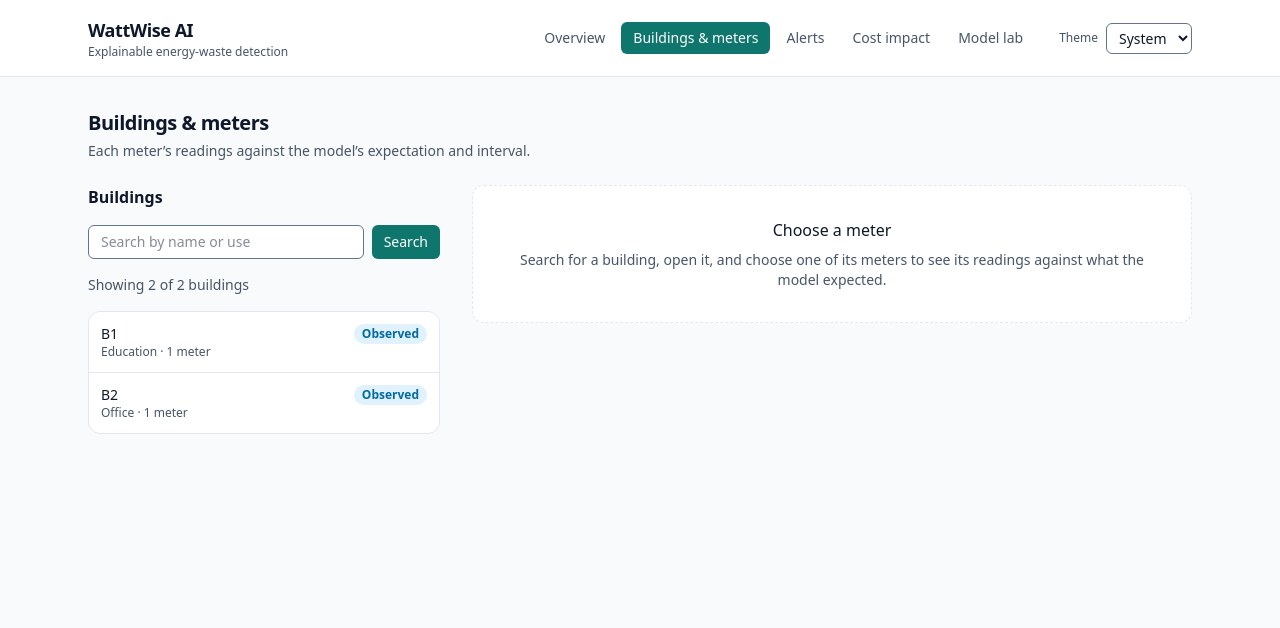
Test: Explorer: when there is nothing to show › defaults to the latest fortnight when the meter has no alerts
The image size is (1280, 628).
Click the button "B1 Education · 1 meter Observed".
click(129, 352)  # box [101,324,427,360]
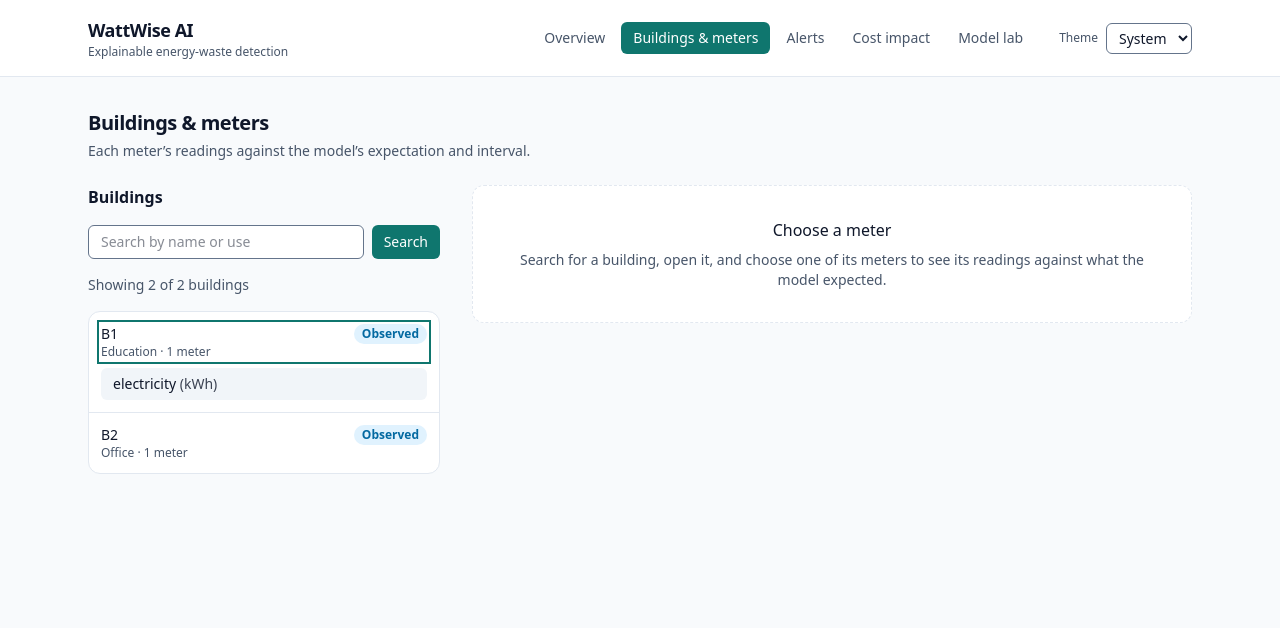
Click the button "electricity (kWh)".
click(145, 384)  # box [101,368,427,400]
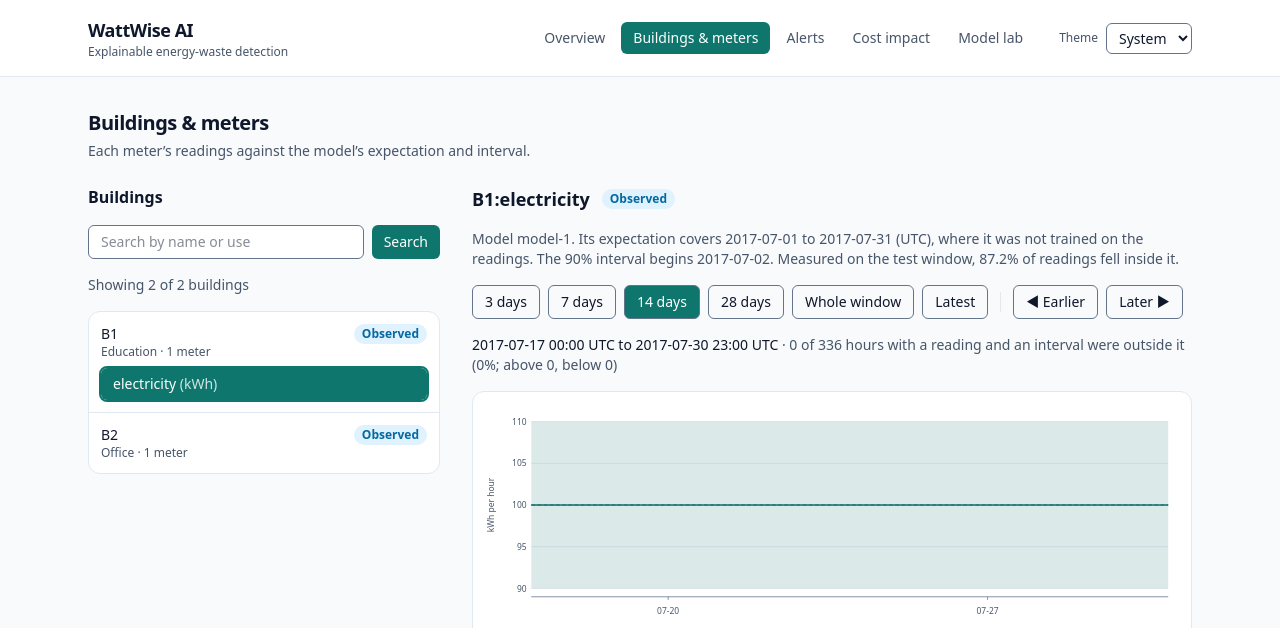
Now the message named "Range summary" shows "2017-07-17", box [472,335,778,354]
